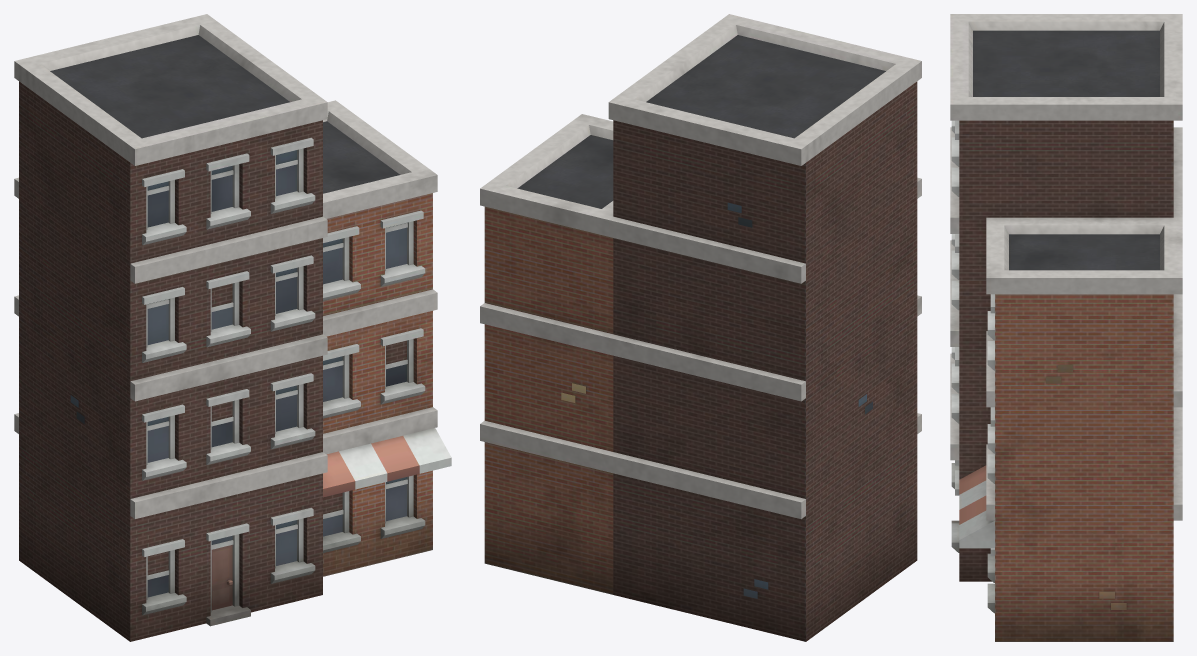
File: building_H.glb
3 views of the same model, side by side, from view 1: azimuth 30°, elevation 25°; view 2: azimuth 150°, elevation 25°; view 3: azimuth 270°, elevation 25° (orthographic). The views are drawn at different scales.
Visible parts, largest first — view 1: building_H_withoutBase; view 2: building_H_withoutBase; view 3: building_H_withoutBase.
Boxes of the visible parts, bbox=[...] form: building_H_withoutBase: bbox=[14, 14, 451, 641]; building_H_withoutBase: bbox=[480, 14, 921, 641]; building_H_withoutBase: bbox=[950, 14, 1182, 641].
Bounding box in the file's own units: 2.01 × 2.95 × 1.3.
Materials: 2 (2 with a texture image).
